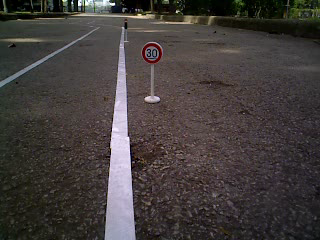limit 30: (140, 41, 166, 66)
